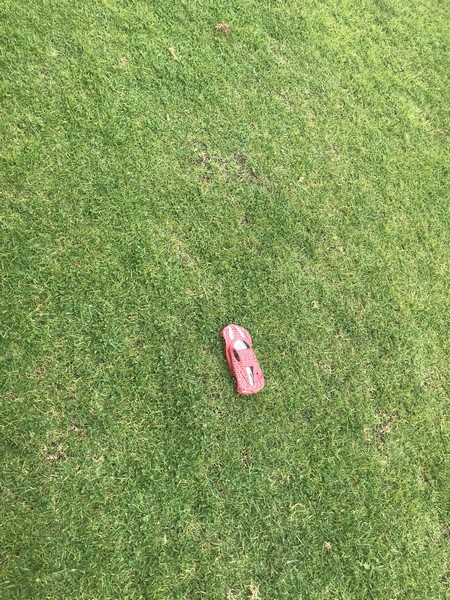RC: (220, 322, 267, 397)
